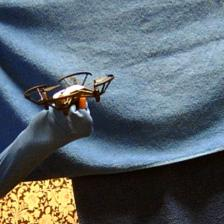drone: (24, 71, 118, 116)
